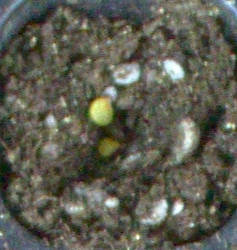pepper seed: (36, 55, 158, 214), (32, 32, 147, 158)
